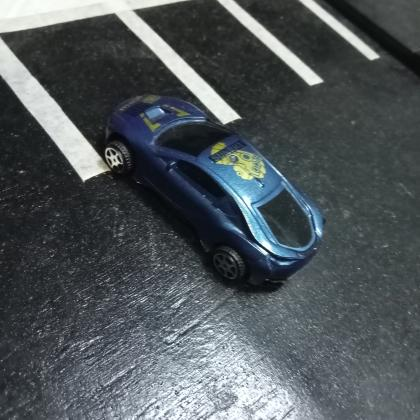Car: (103, 91, 326, 285)
